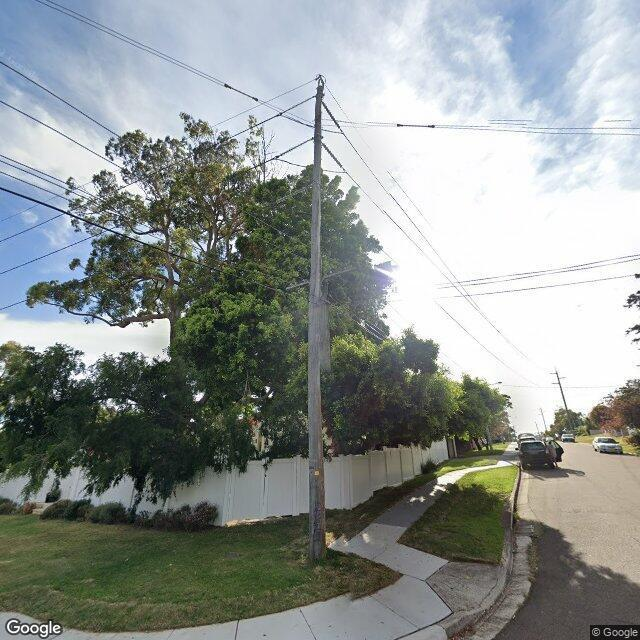HV-transmission: (274, 74, 344, 215), (549, 371, 567, 385)
crossarm: (286, 266, 360, 290)
streetlight: (488, 381, 502, 387)
timber-pole: (310, 85, 326, 563), (555, 369, 573, 432), (540, 408, 547, 430)
